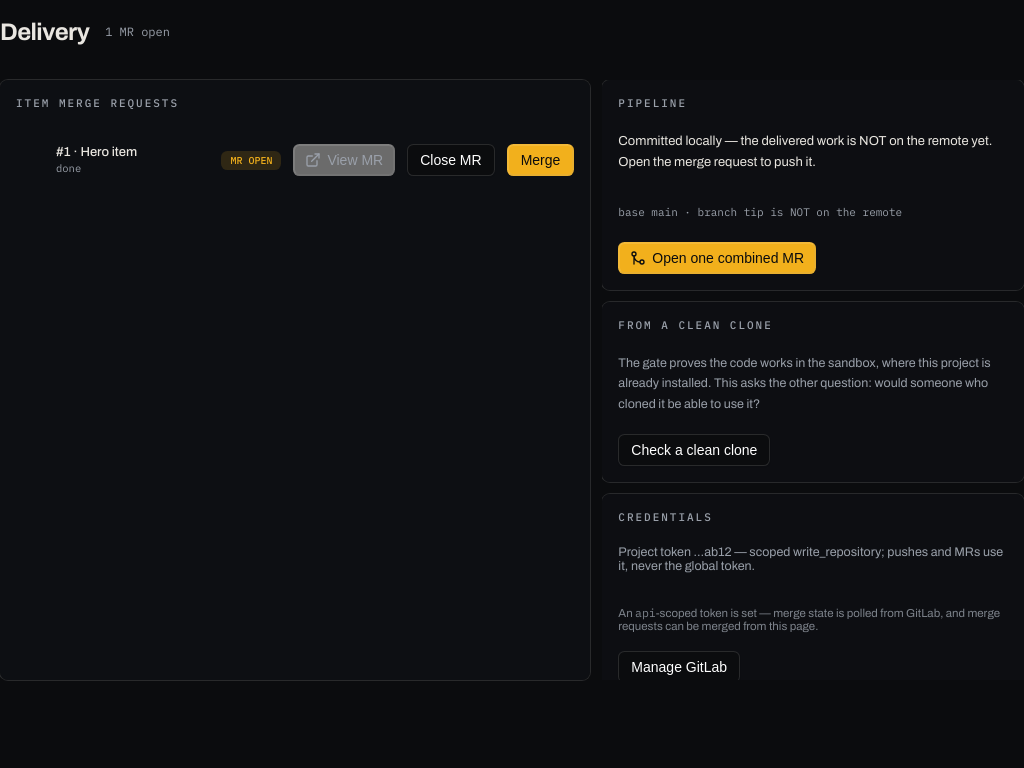
Test case: merging an item MR from the console (#109) › names the actual branches in the confirmation, never 'this item'
Click the button "Merge".
click(540, 160)  # box [507, 144, 574, 176]
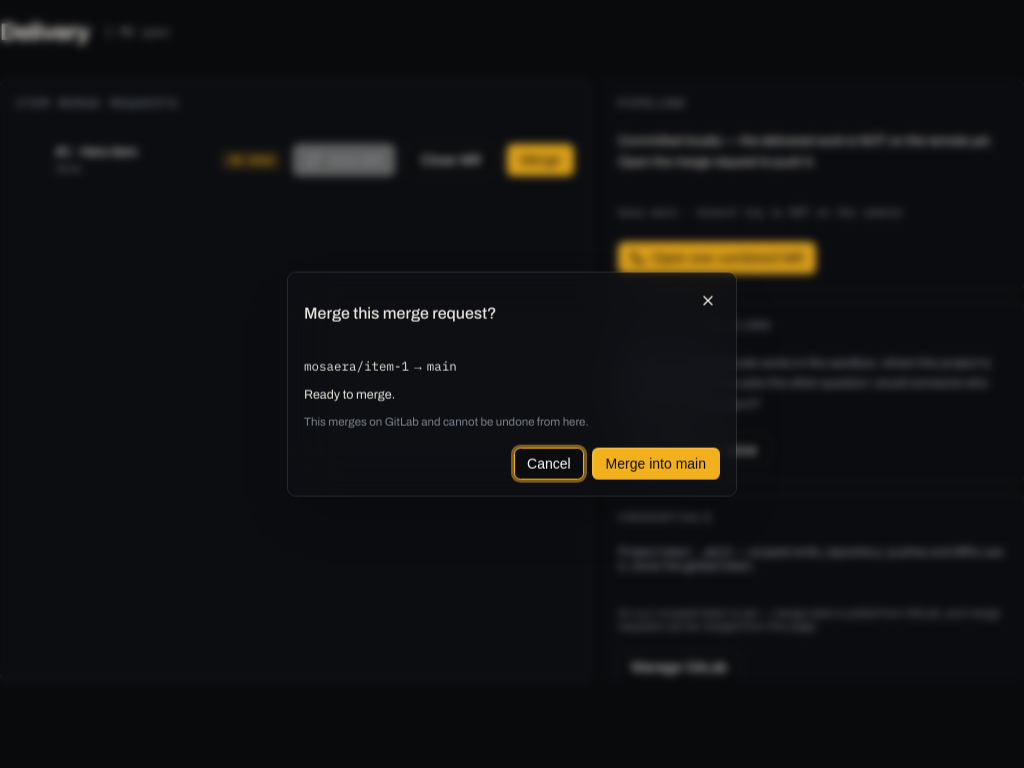
Expected: the text "mosaera/item-1" is shown, [304, 357, 409, 373]
Expected: the text "main" is shown, [427, 357, 457, 373]
Expected: the text "This merges on GitLab and cannot be undone from here." is shown, [304, 416, 589, 428]
